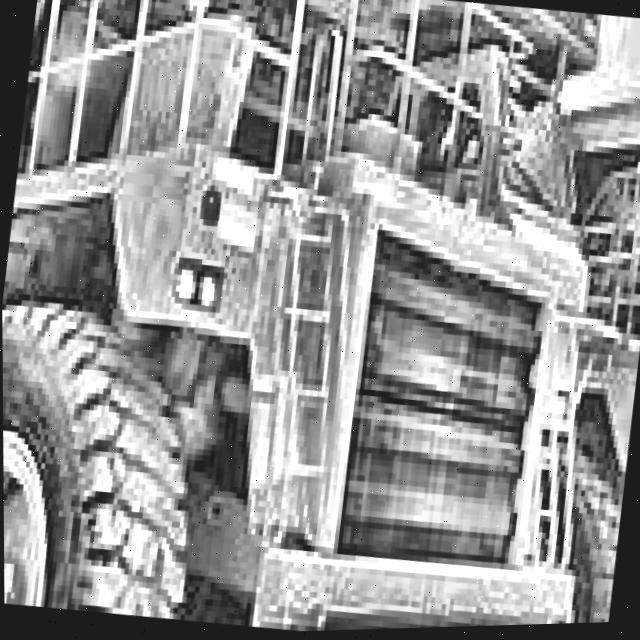dump_truck: (0, 0, 620, 640)
